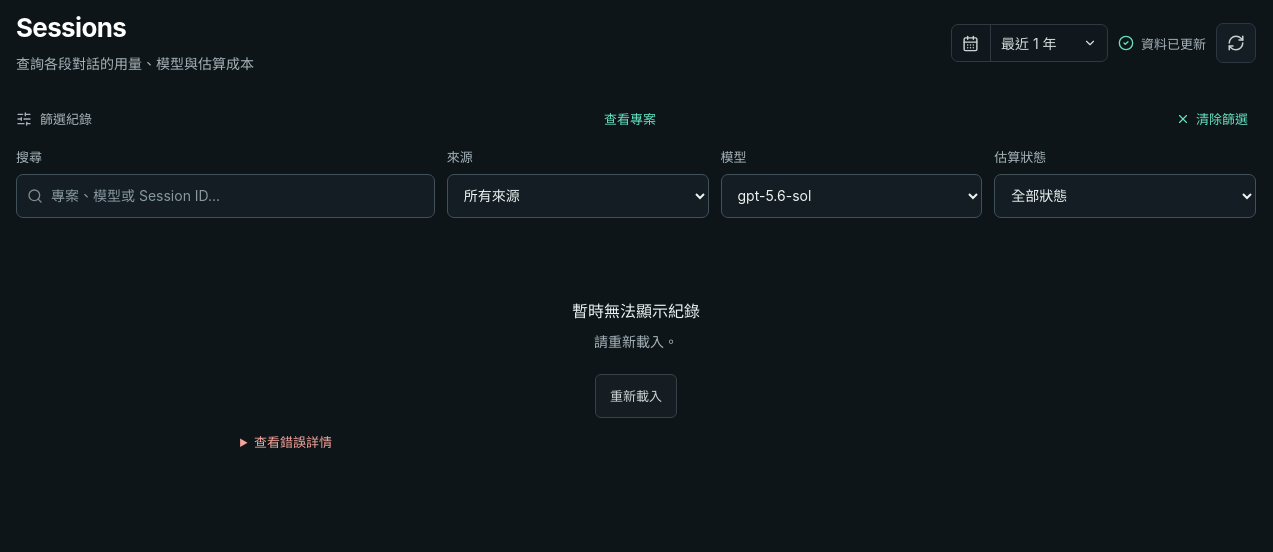
Test: retries a model query failure without presenting it as zero results
Expected: the heading "暫時無法顯示紀錄" is shown, top-left (572, 301), bottom-right (700, 321)
Click the button "重新載入" at (636, 396), box top-left (595, 374), bottom-right (677, 418)
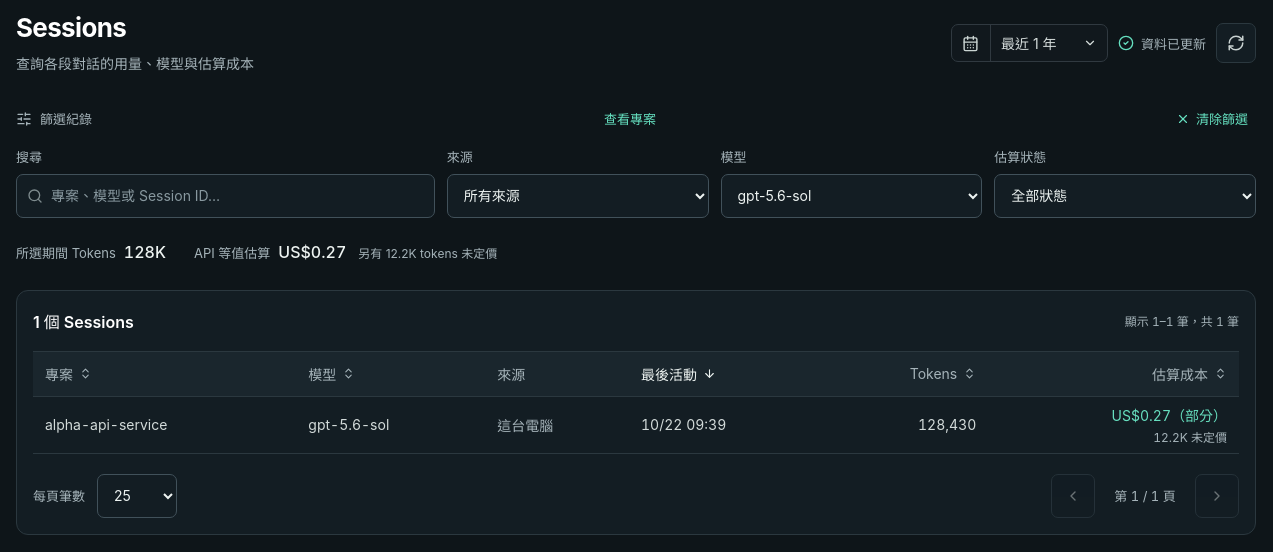
Now the heading "1 個 Sessions" is shown, box top-left (33, 309), bottom-right (134, 333)
